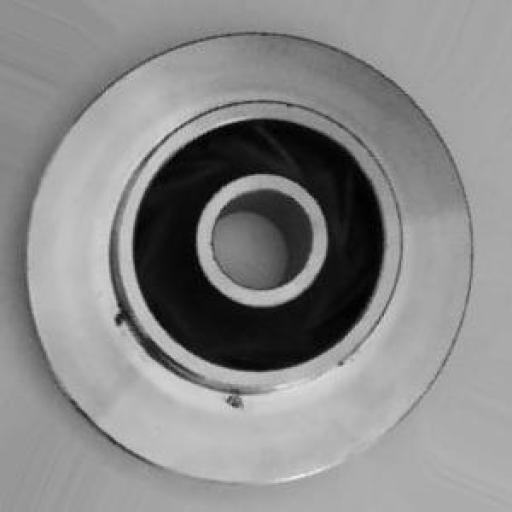defect: (104, 301, 270, 432)
